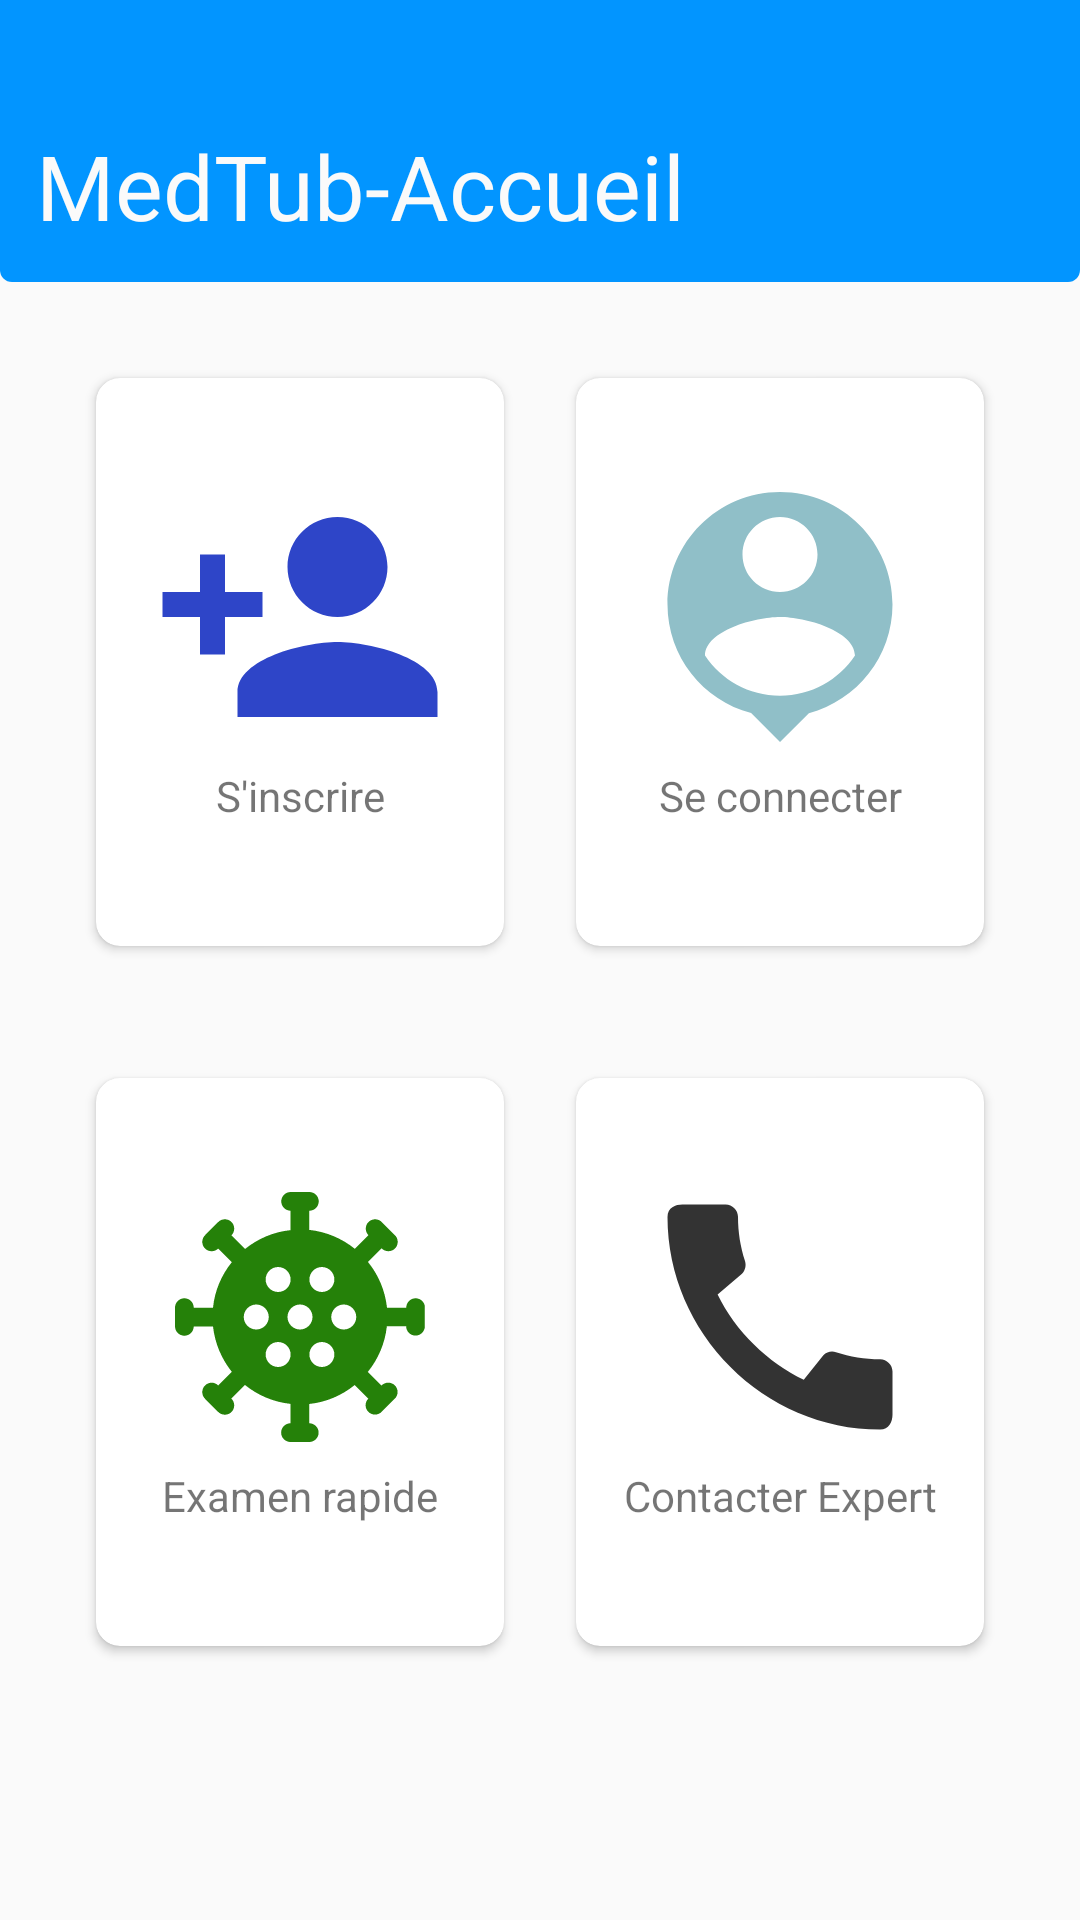

Icons on this 1080x1920 Android screen, each with the point to tap as (x=x, y=y):
call: (x=780, y=1317)
coronavirus: (x=300, y=1317)
person add: (x=300, y=617)
person pin: (x=780, y=617)
